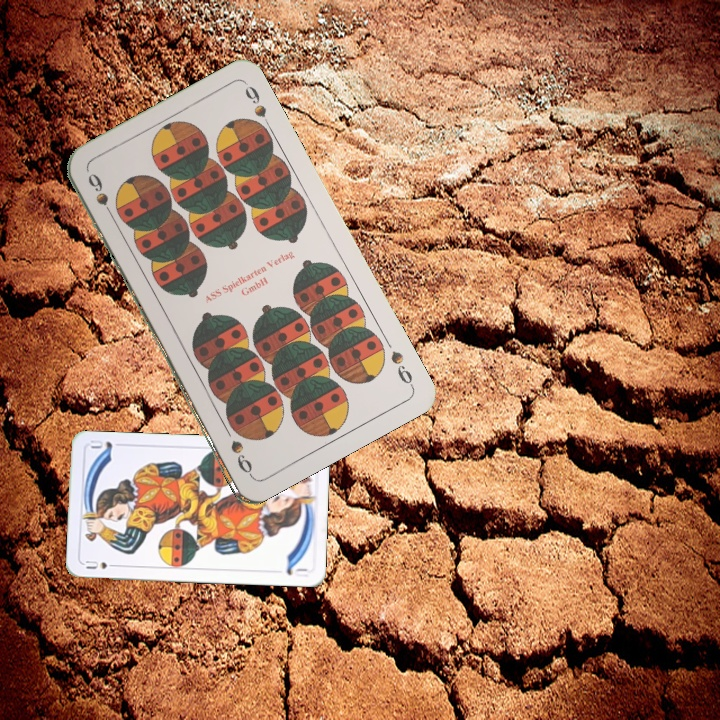S9: (83, 169, 118, 223), (386, 346, 416, 390)
SU: (81, 557, 121, 571)
